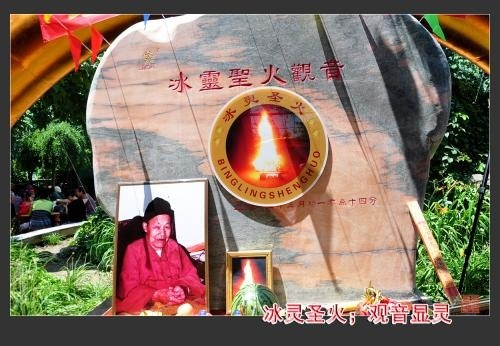fire: (249, 107, 282, 172), (239, 258, 254, 283)
